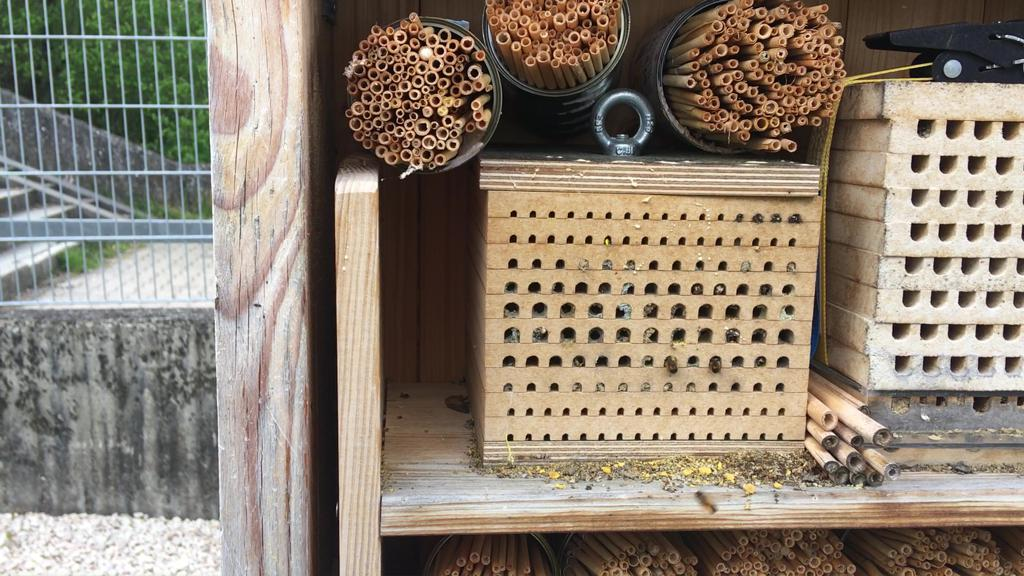bee: (703, 348, 728, 382), (659, 353, 685, 379)
